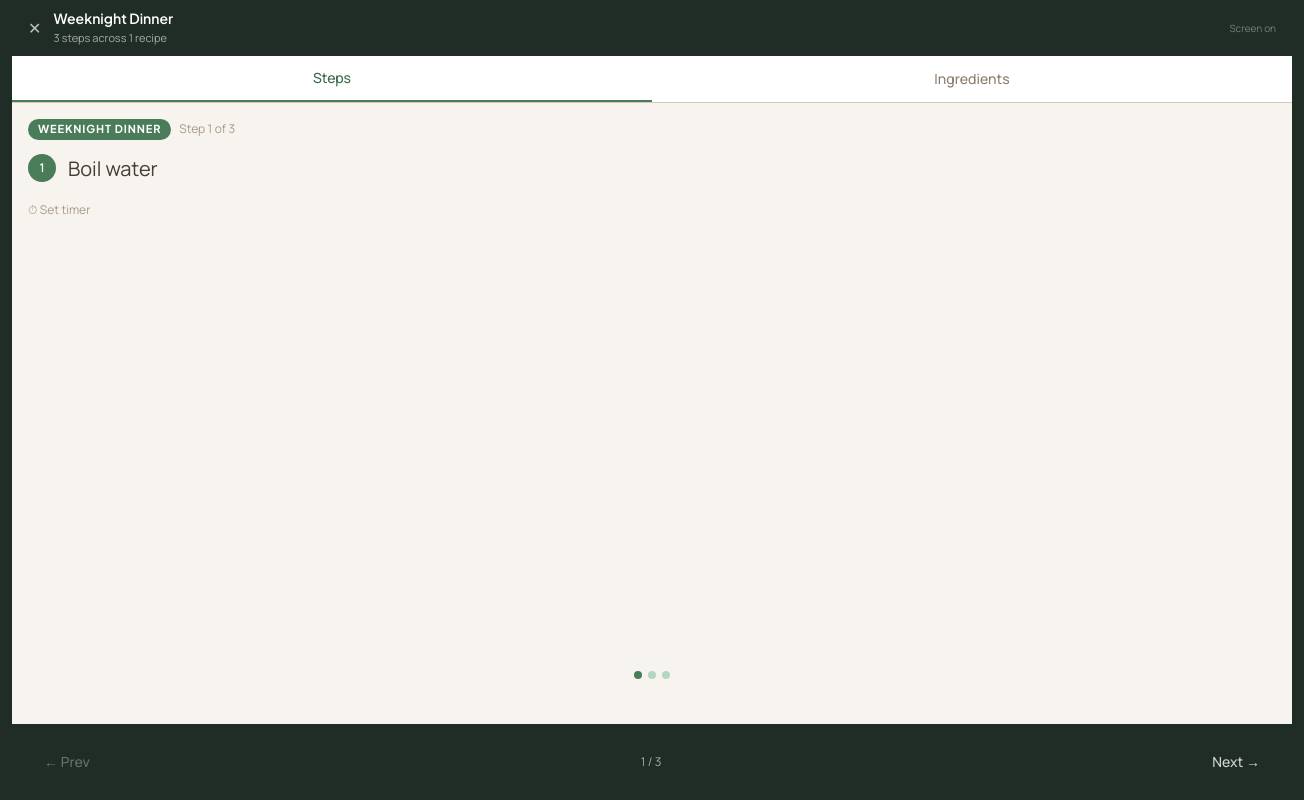
Test: multi-recipe cook page — activeTab tab switching › regression: clicking Ingredients tab shows the ingredient checklist
This screenshot has width=1304, height=800.
Click the button "Ingredients": {"x": 972, "y": 79} [652,56,1292,102]
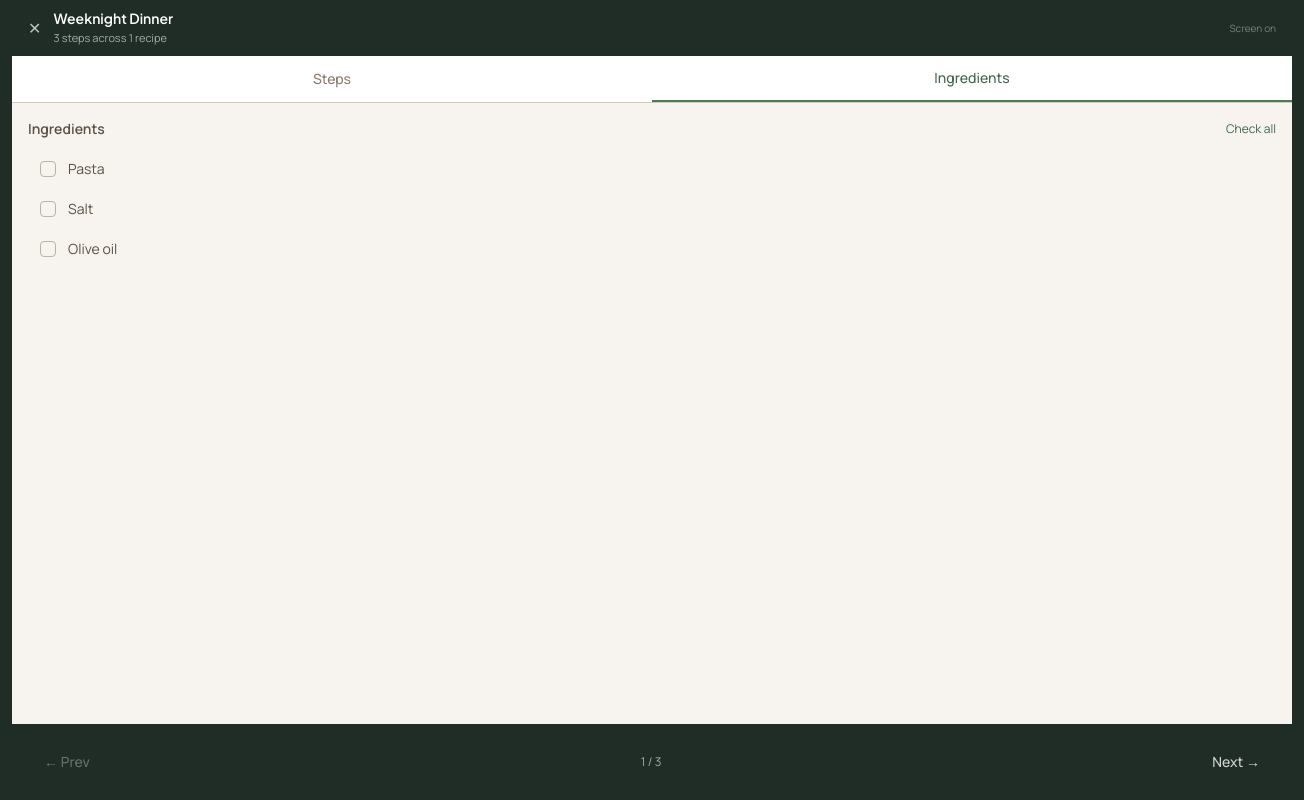
Now the text "Pasta" is shown, box [68,159,105,179]
Now the text "Boil water" is gone
